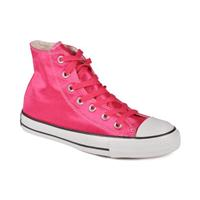shoe: (20, 40, 182, 160)
